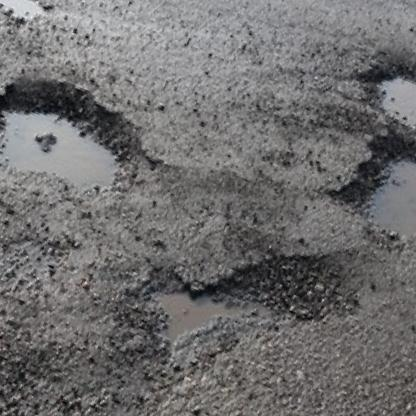pothole: (134, 204, 364, 407), (0, 51, 171, 218), (320, 117, 416, 263), (361, 55, 416, 139), (0, 0, 56, 27)
